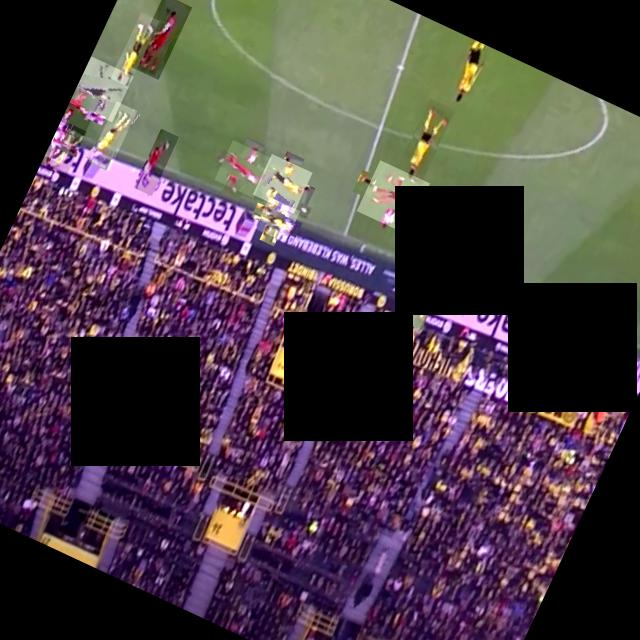ball: (294, 202, 311, 218)
referee: (69, 55, 133, 121)
soccer-player: (396, 232, 459, 328), (356, 159, 430, 233), (394, 98, 454, 184), (129, 0, 191, 79), (110, 11, 159, 86), (252, 152, 312, 212), (214, 139, 272, 197), (88, 100, 136, 170), (132, 128, 178, 195), (45, 121, 86, 177), (253, 196, 300, 242), (58, 86, 100, 135), (44, 128, 75, 164)
